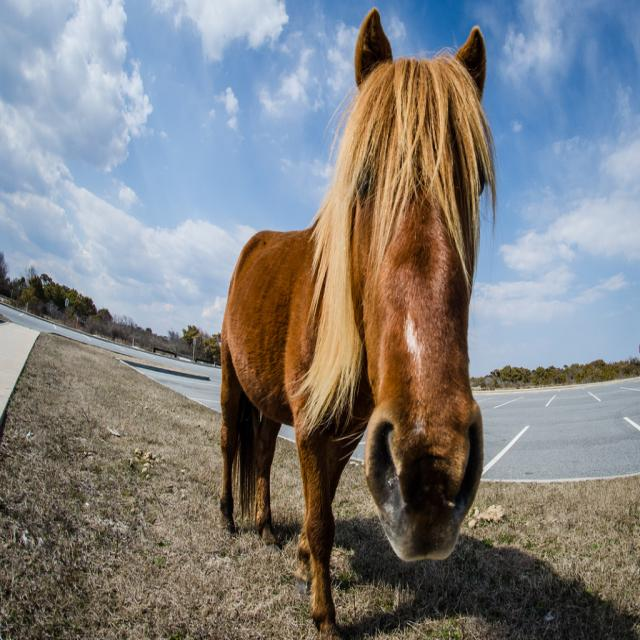Horse: (216, 7, 504, 639)
